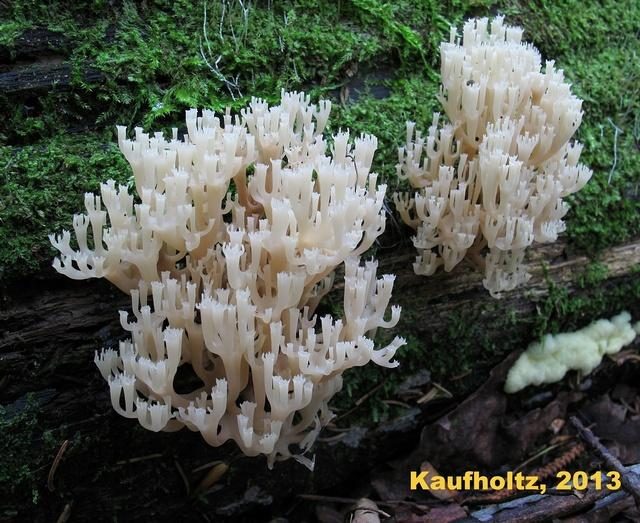Edible Mushroom: (47, 86, 407, 469), (392, 12, 593, 299)
